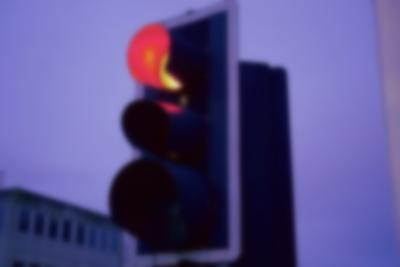International Road Signal Light: (112, 9, 242, 256)
